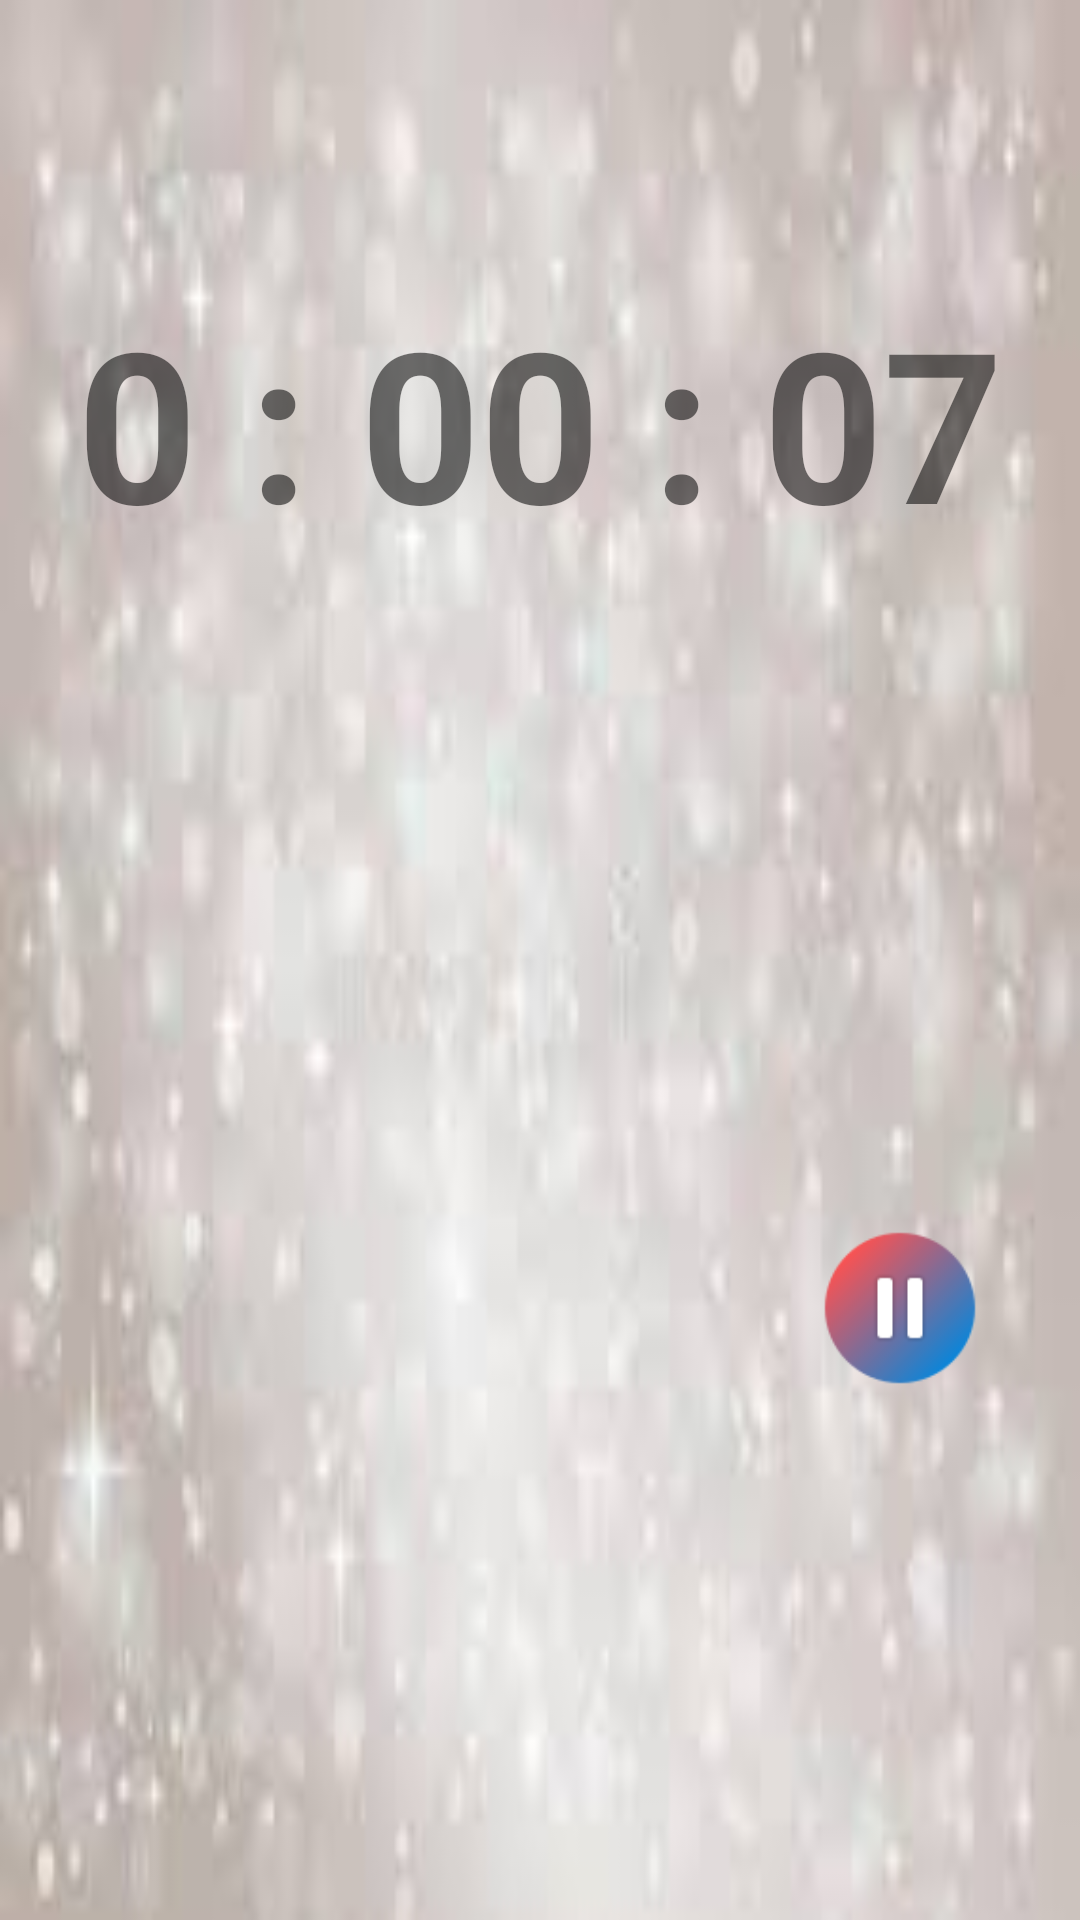

Locate icon controls on the screen. Image size 1080×1920, boxes as BBox(x1, y1, x2, y2).
pausebutton: BBox(824, 1218, 990, 1398)
